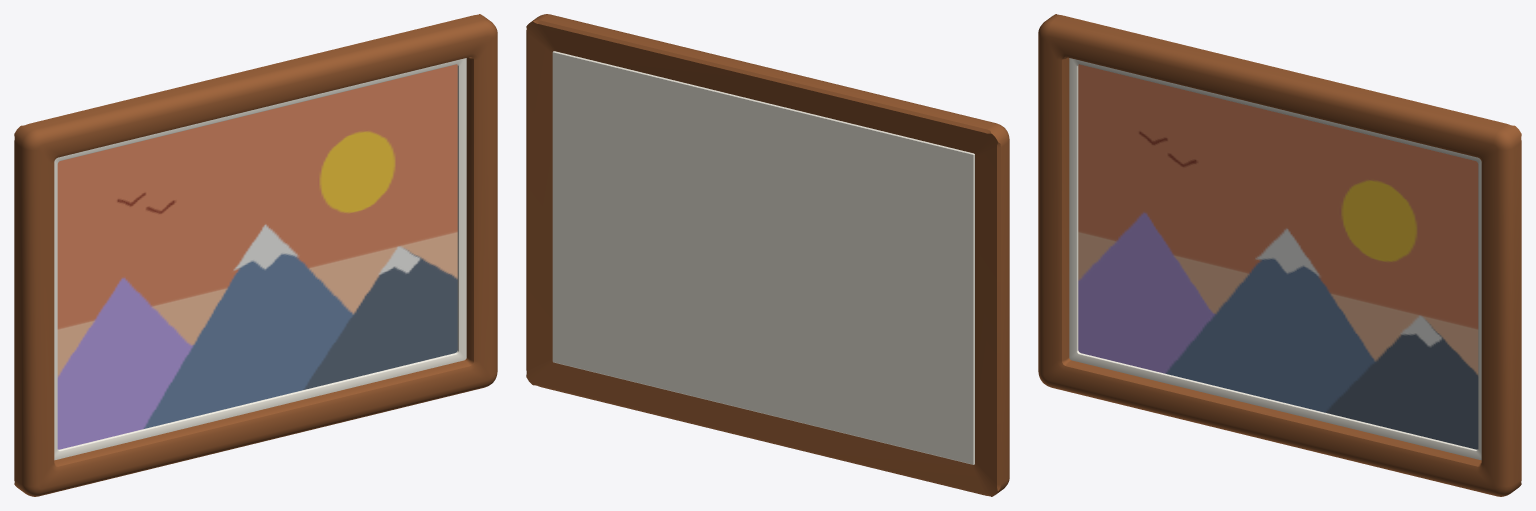
File: quadro_montanhas_entardecer.glb
3 views of the same model, side by side, from view 1: azimuth 30°, elevation 25°; view 2: azimuth 150°, elevation 25°; view 3: azimuth 330°, elevation 25° (orthographic).
Visible parts, largest first — view 1: quadro_montanhas_entardecer; view 2: quadro_montanhas_entardecer; view 3: quadro_montanhas_entardecer.
Boxes of the visible parts, x1,y1,x2,y2 form: quadro_montanhas_entardecer: [14, 14, 497, 496]; quadro_montanhas_entardecer: [526, 14, 1009, 496]; quadro_montanhas_entardecer: [1038, 14, 1521, 496].
Bounding box in the file's own units: 0.734 × 0.5416 × 0.04.
Materials: 2 (2 with a texture image).
